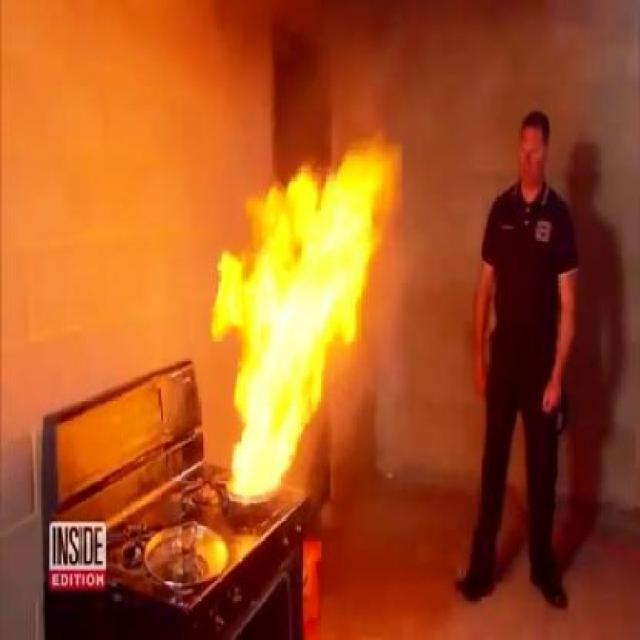fire: (210, 167, 335, 506)
